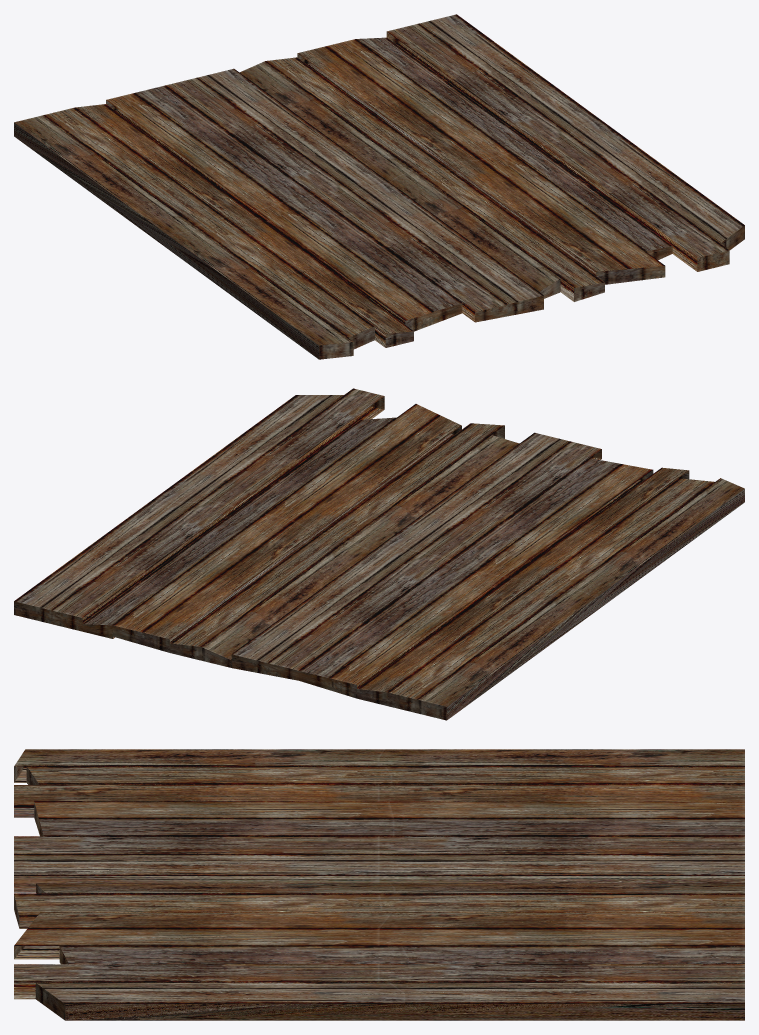
The model's file is PlatformModel.fbx.
The picture shows the model from 3 angles, top to bottom: view 1: azimuth 30°, elevation 25°; view 2: azimuth 150°, elevation 25°; view 3: azimuth 270°, elevation 25°; orthographic projection. The views are drawn at different scales.
Visible parts, largest first — view 1: Platform; view 2: Platform; view 3: Platform.
Part boxes in pixels (x1,y1,x2,y2): Platform: [14, 14, 744, 359]; Platform: [14, 388, 744, 720]; Platform: [14, 749, 744, 1020].
Size of the model in its own units: 13.2 by 0.4 by 16.
